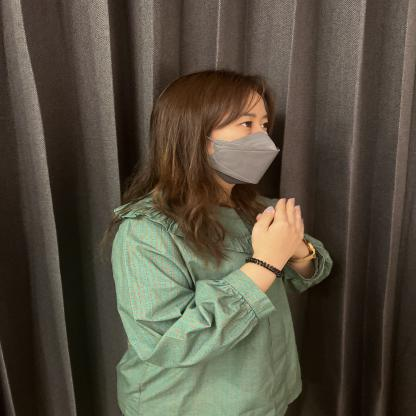Grieve: (237, 192, 330, 323)
